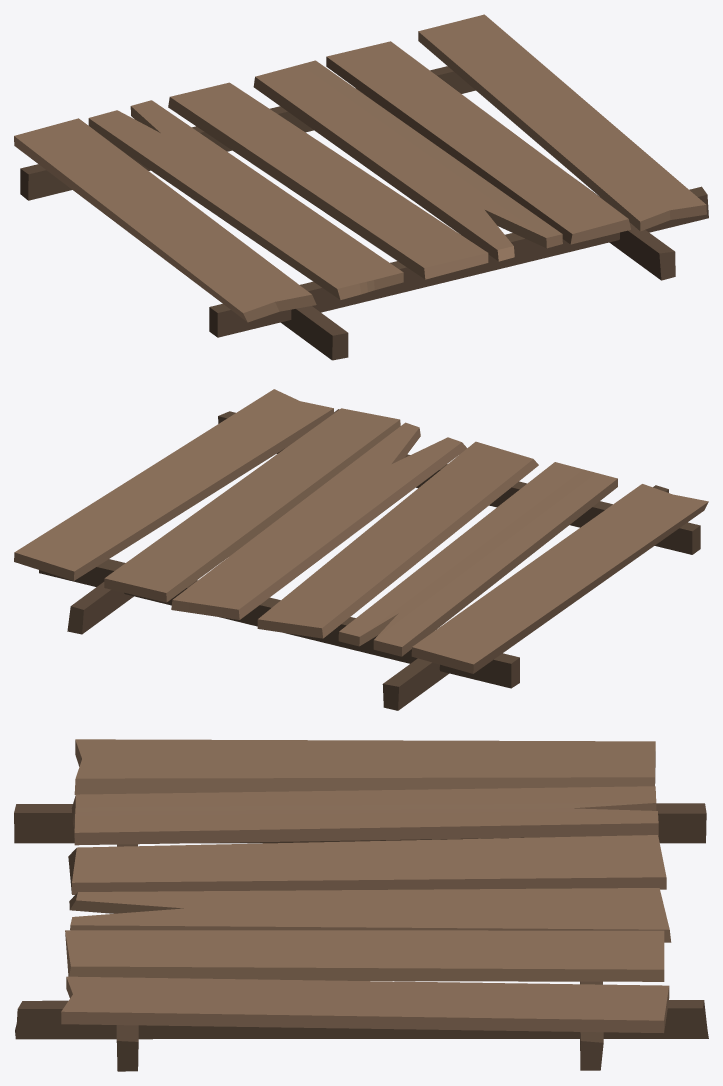
The model's file is Platform_square.fbx.
3 views of the same model, one above another, from view 1: azimuth 30°, elevation 25°; view 2: azimuth 150°, elevation 25°; view 3: azimuth 270°, elevation 25° (orthographic). The views are drawn at different scales.
Parts seen in each view (by area): view 1: Cube.006; view 2: Cube.006; view 3: Cube.006.
Part boxes in pixels (left/top/right/bottom): Cube.006: left=14, top=14, right=708, bottom=360; Cube.006: left=14, top=389, right=708, bottom=710; Cube.006: left=14, top=739, right=708, bottom=1071.
Size of the model in its own units: 368 by 36.55 by 366.
1 material, 1 textured.
